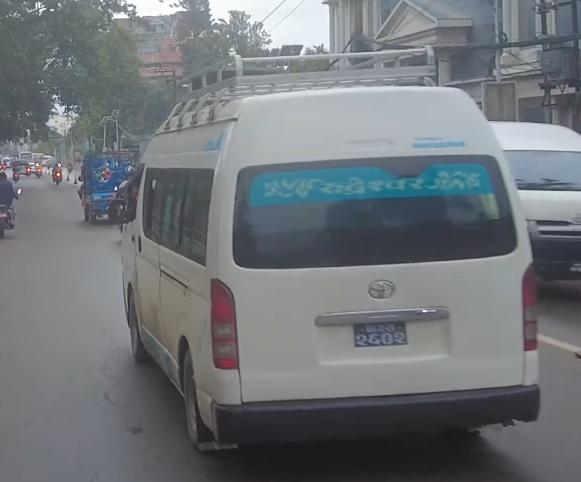bike: (0, 189, 25, 241)
micro_bus: (109, 46, 544, 462), (481, 119, 581, 293)
